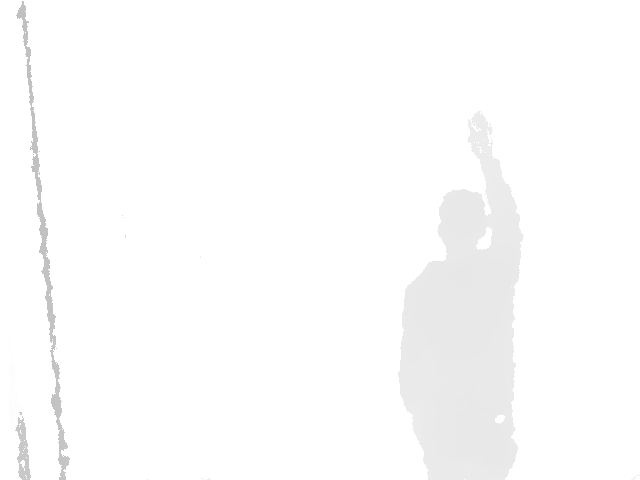hand: (466, 112, 494, 162)
head: (436, 189, 487, 255)
person: (397, 112, 523, 480)
